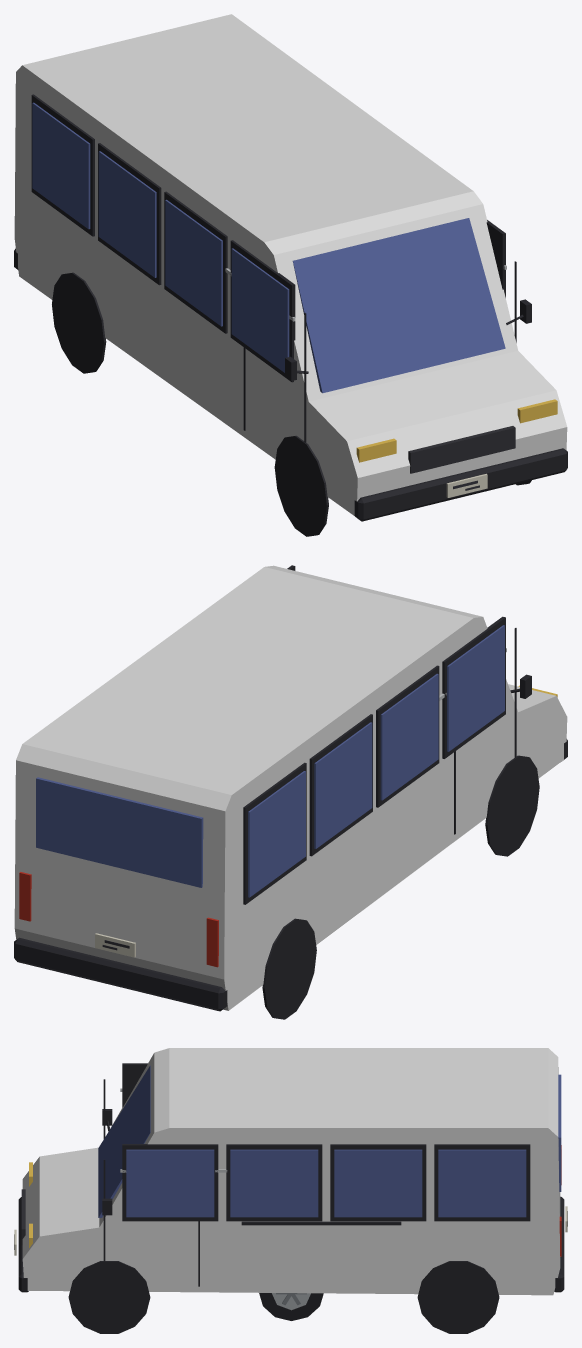
File: van.glb
3 views of the same model, one above another, from view 1: azimuth 30°, elevation 25°; view 2: azimuth 150°, elevation 25°; view 3: azimuth 270°, elevation 25° (orthographic). The views are drawn at different scales.
Parts seen in each view (by area): view 1: paint, body, lights; view 2: paint, body, lights; view 3: paint, body, wheel0.
Part boxes in pixels (bbox=[...]): paint: bbox=[14, 14, 567, 515]; body: bbox=[14, 94, 567, 536]; lights: bbox=[356, 399, 557, 462]; paint: bbox=[14, 565, 567, 1010]; body: bbox=[14, 565, 567, 1019]; lights: bbox=[19, 685, 557, 967]; paint: bbox=[22, 1048, 560, 1295]; body: bbox=[14, 1063, 567, 1333]; wheel0: bbox=[259, 1293, 323, 1320].
Bounding box in the file's own units: 2.18 × 2.53 × 5.55.
